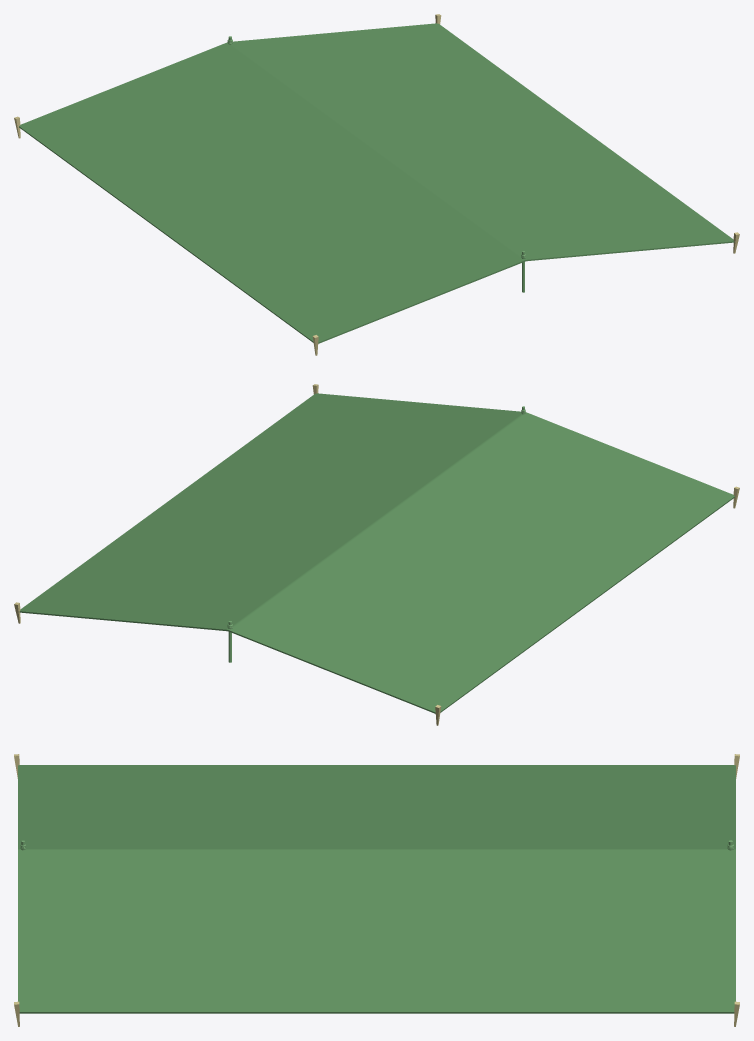
The model's file is Tents.glb.
3 views of the same model, one above another, from view 1: azimuth 30°, elevation 25°; view 2: azimuth 150°, elevation 25°; view 3: azimuth 270°, elevation 25° (orthographic). The views are drawn at different scales.
Visible parts, largest first — view 1: OpenRoof; view 2: OpenRoof; view 3: OpenRoof.
Boxes of the visible parts, x1,y1,x2,y2 form: OpenRoof: (19, 23, 734, 343); OpenRoof: (19, 393, 734, 713); OpenRoof: (18, 765, 735, 1013).
Bounding box in the file's own units: 3.3 × 0.3828 × 4.04.
